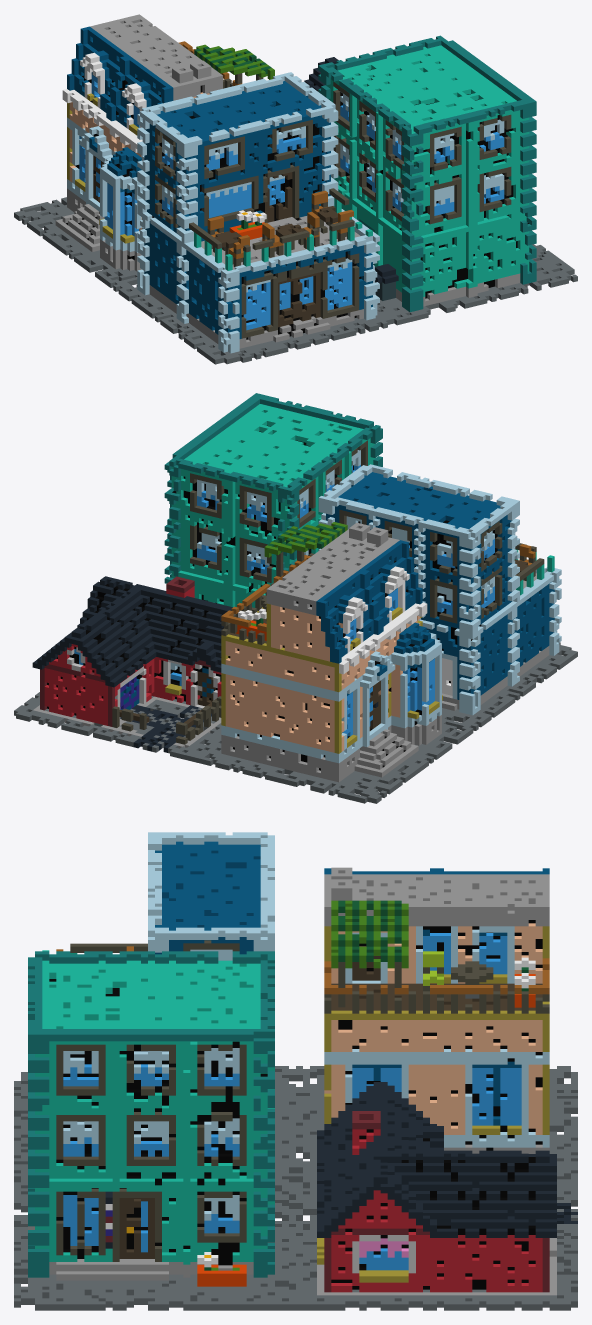
File: building_medium_1_damaged.obj
3 renders of one model, top to bottom at view 1: azimuth 30°, elevation 25°; view 2: azimuth 150°, elevation 25°; view 3: azimuth 270°, elevation 25°, orthographic. The views are drawn at different scales.
Bounding box in the file's own units: 8 × 4 × 8.
Materials: 1 (1 with a texture image).
